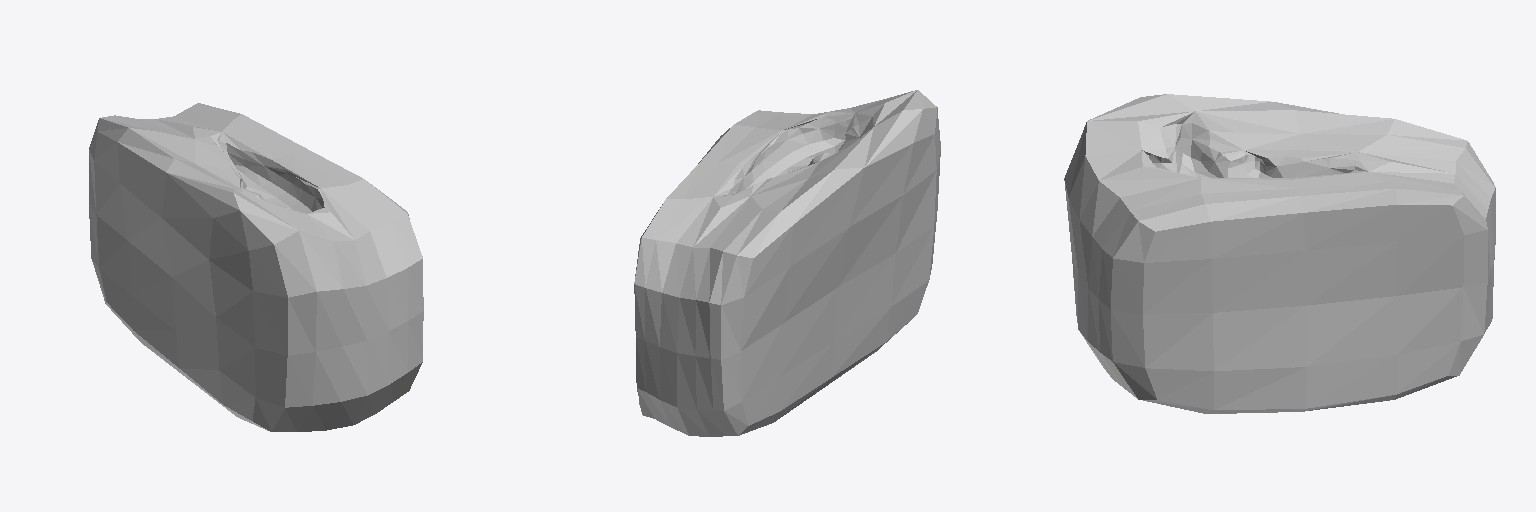
File: Rune2.obj
The picture shows the model from 3 angles: view 1: azimuth 30°, elevation 25°; view 2: azimuth 150°, elevation 25°; view 3: azimuth 270°, elevation 25°; orthographic projection.
Visible parts, largest first — view 1: Rune2; view 2: Rune2; view 3: Rune2.
Boxes of the visible parts, <box> form: Rune2: <box>89,103,423,431</box>; Rune2: <box>634,90,940,436</box>; Rune2: <box>1064,94,1495,413</box>.
Bounding box in the file's own units: 3.57 × 4.47 × 7.08.